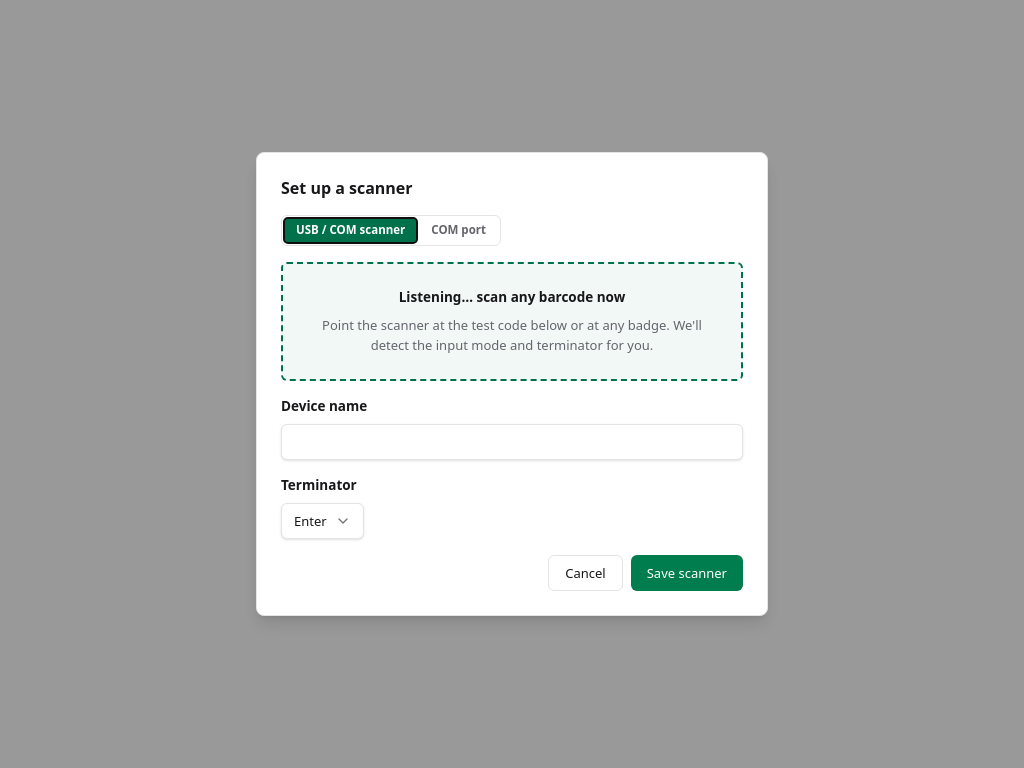
it: ScannerWizard › COM path › lists ports from GET /scanners/ports, picking one POSTs /scanners/add and enters the listen phase with the name field already editable
Step 1. Click the button "COM port" → (459, 231), box [419,218,498,243]
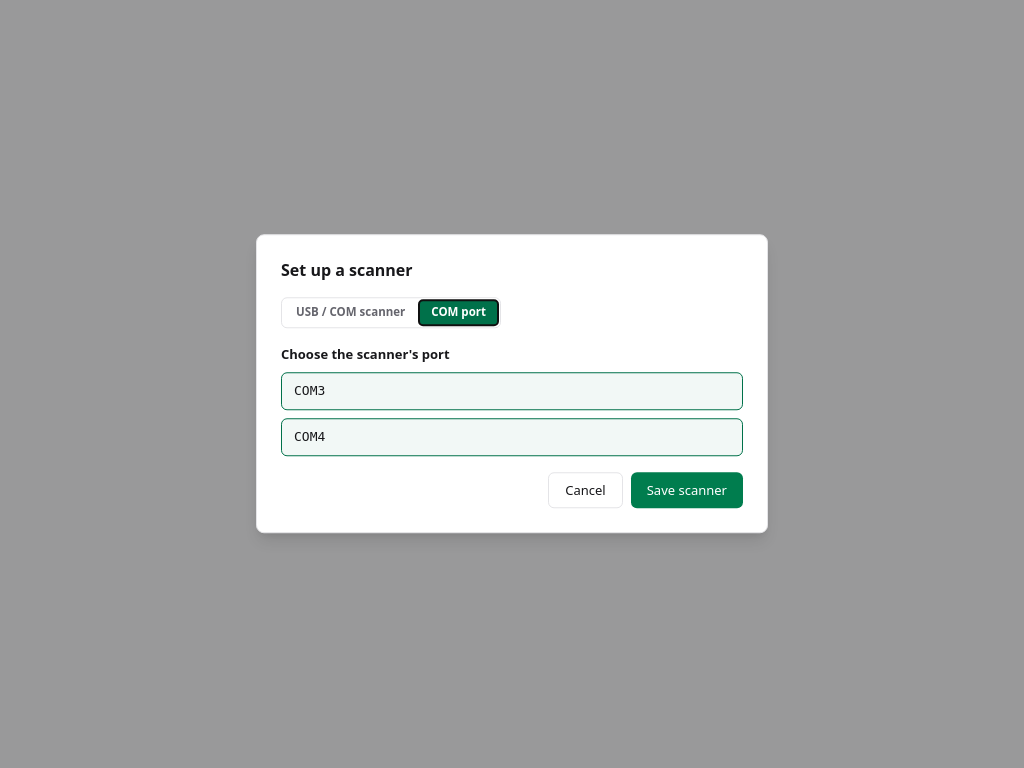
Expected: the text "COM3" is shown, [294,382,325,402]
Expected: the text "COM4" is shown, [294,428,325,448]
Step 2. Click the button "COM3" → (310, 391), box [281,372,743,411]
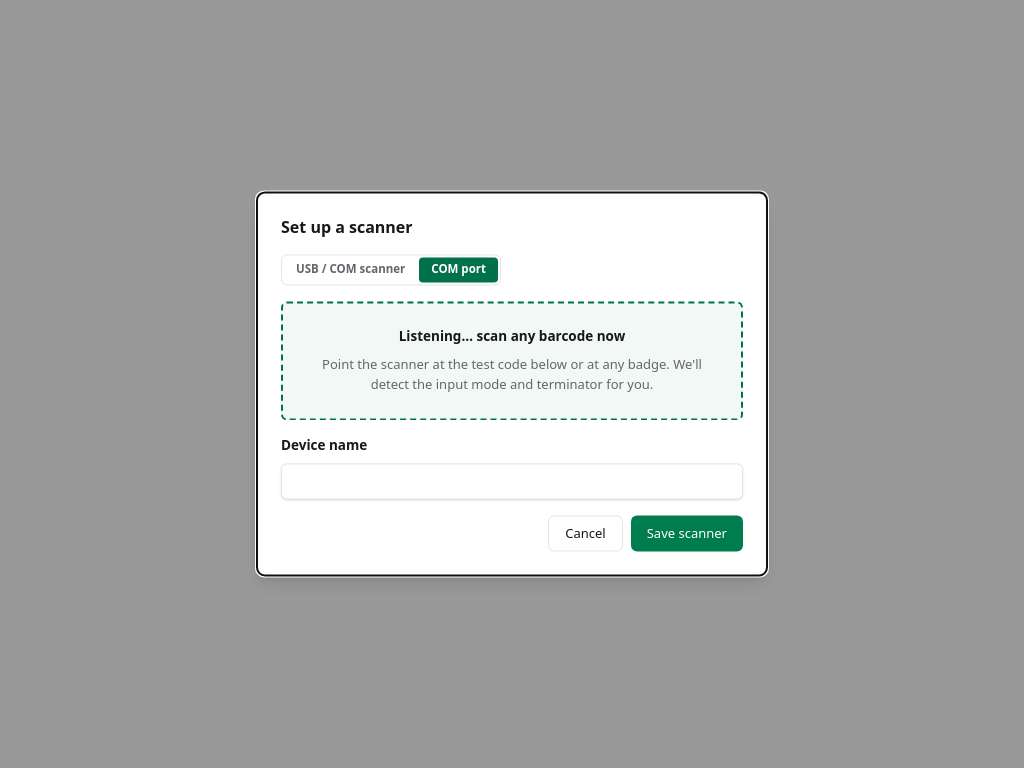
Expected: the element with test id "scanner-wizard-listen-panel" is shown, [281,302,743,421]
Expected: the field labelled "Device name" is shown, [281,464,743,500]
